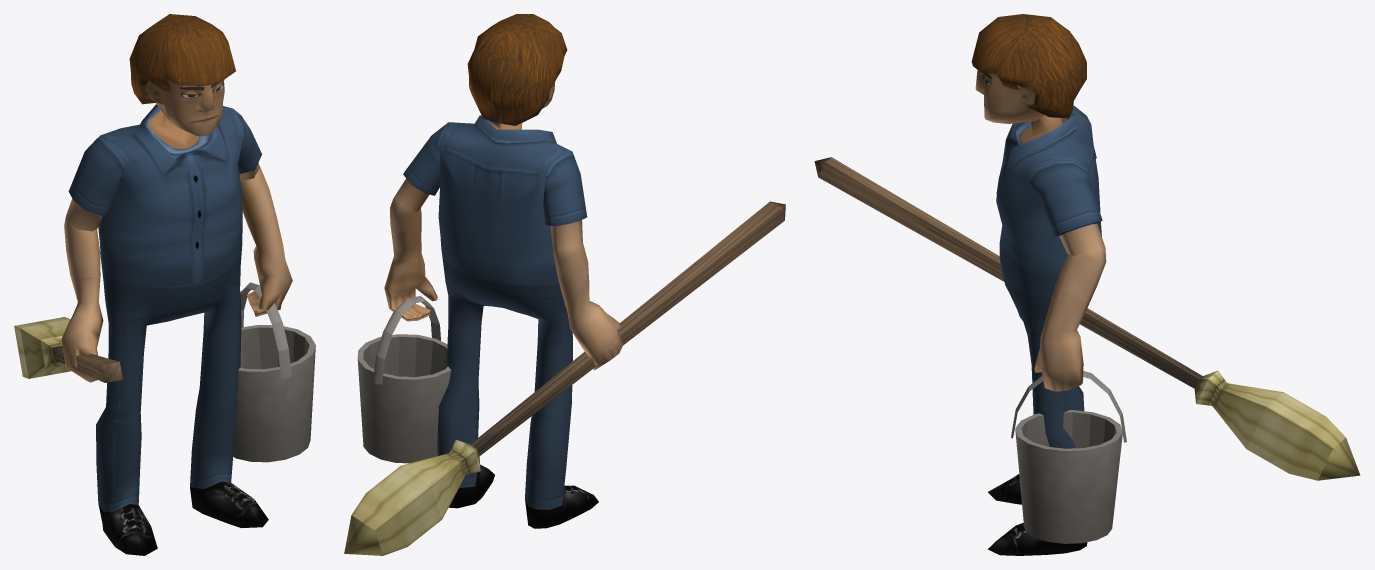
Rendered from JanitorProxy.fbx.
3 views of the same model, side by side, from view 1: azimuth 30°, elevation 25°; view 2: azimuth 150°, elevation 25°; view 3: azimuth 270°, elevation 25° (orthographic). The views are drawn at different scales.
Parts seen in each view (by area): view 1: JanitorProxy; view 2: JanitorProxy; view 3: JanitorProxy.
Part boxes in pixels (box(x1,y1,x2,y2)): JanitorProxy: box(14, 14, 315, 555); JanitorProxy: box(344, 14, 785, 555); JanitorProxy: box(814, 14, 1360, 555).
Bounding box in the file's own units: 1.45 × 2.15 × 2.11.
1 material, 1 textured.
